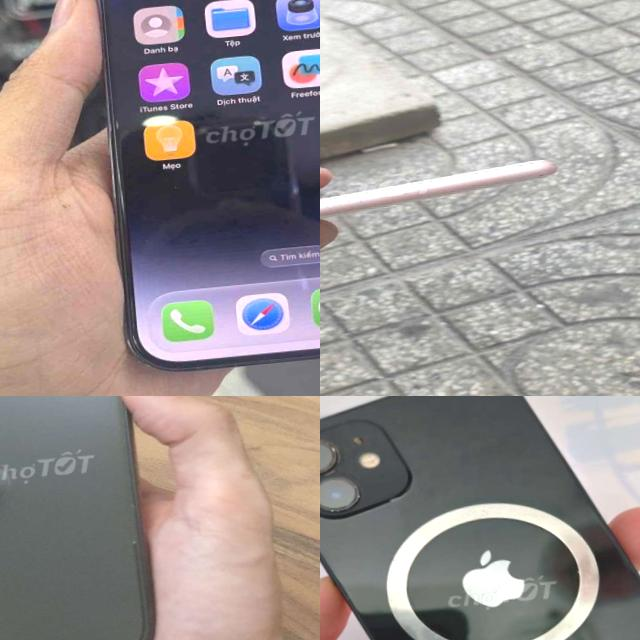gen_12_13: (320, 396, 640, 640), (0, 396, 195, 640)
gen_14: (53, 0, 320, 387)
gen_7_8: (320, 155, 567, 241)
scratch: (512, 158, 564, 178), (320, 195, 375, 209), (437, 182, 488, 195), (399, 190, 413, 197)
